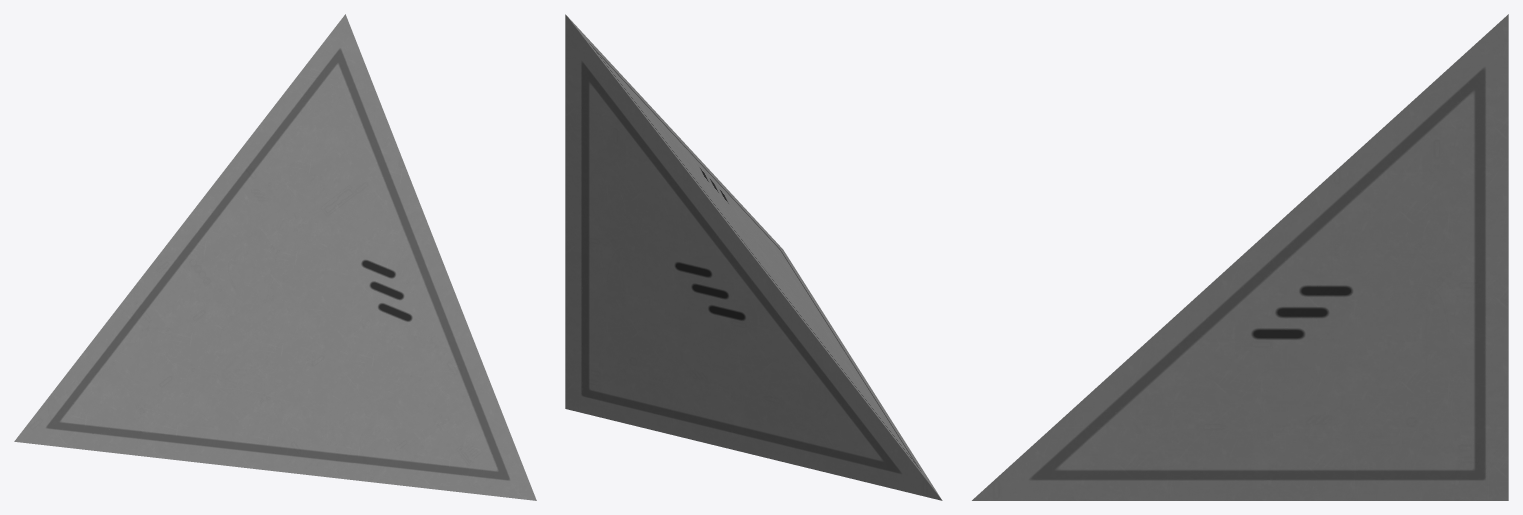
Rendered from LargeBlockArmorCorner.glb.
The picture shows the model from 3 angles, left to right: view 1: azimuth 30°, elevation 25°; view 2: azimuth 150°, elevation 25°; view 3: azimuth 270°, elevation 25°; orthographic projection. The views are drawn at different scales.
Parts seen in each view (by area): view 1: LargeBlockArmorCorner; view 2: LargeBlockArmorCorner; view 3: LargeBlockArmorCorner.
Boxes of the visible parts, <box> form: LargeBlockArmorCorner: <box>14,14,536,500</box>; LargeBlockArmorCorner: <box>565,14,942,500</box>; LargeBlockArmorCorner: <box>972,14,1508,500</box>.
Bounding box in the file's own units: 2.5 × 2.5 × 2.5.
Materials: 1 (1 with a texture image).
